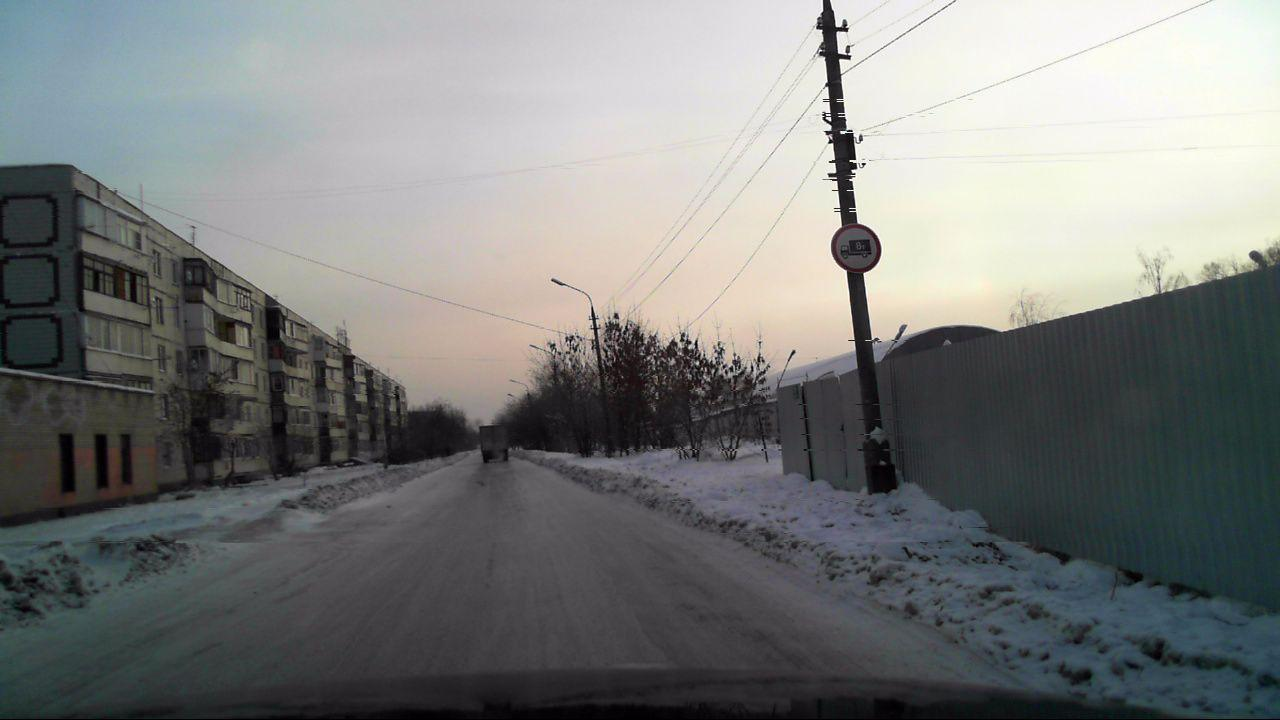3_4: (830, 222, 883, 275)
